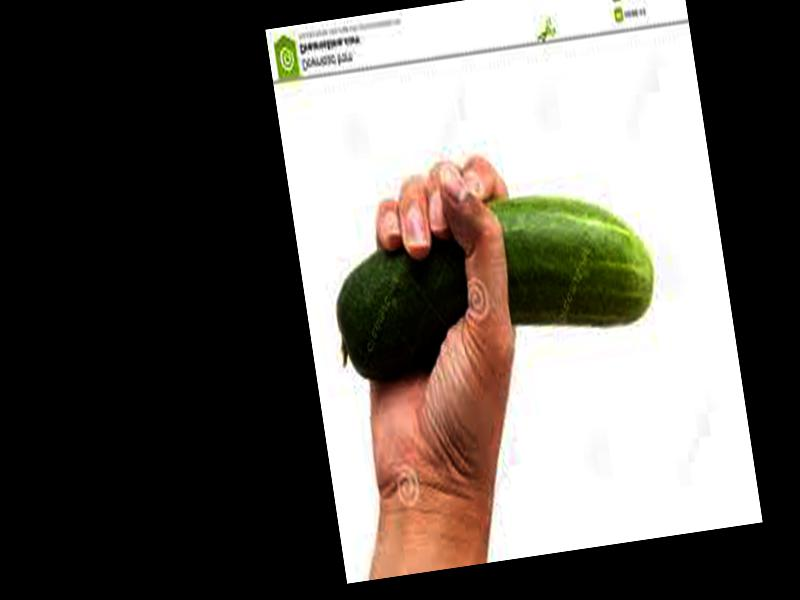Cucumber: (325, 176, 663, 383)
